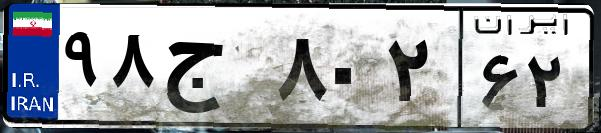0: (330, 28, 385, 110)
2: (385, 28, 445, 110), (525, 38, 570, 115)
6: (475, 38, 525, 113)
8: (270, 28, 330, 110), (110, 28, 158, 98)
9: (57, 26, 110, 100)
ج: (158, 20, 270, 120)
